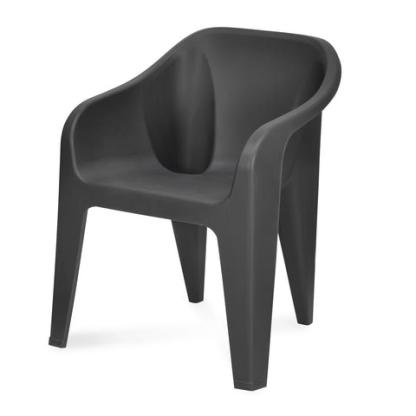chair: (47, 26, 348, 394)
